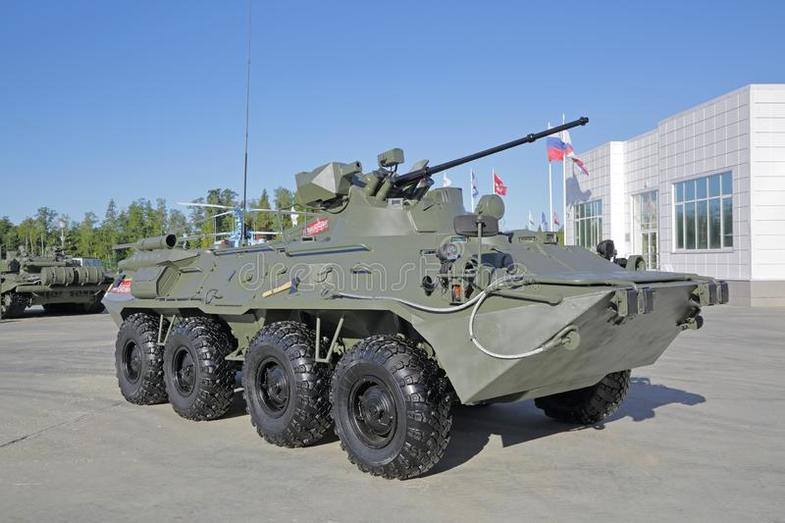btr: (106, 165, 710, 469)
